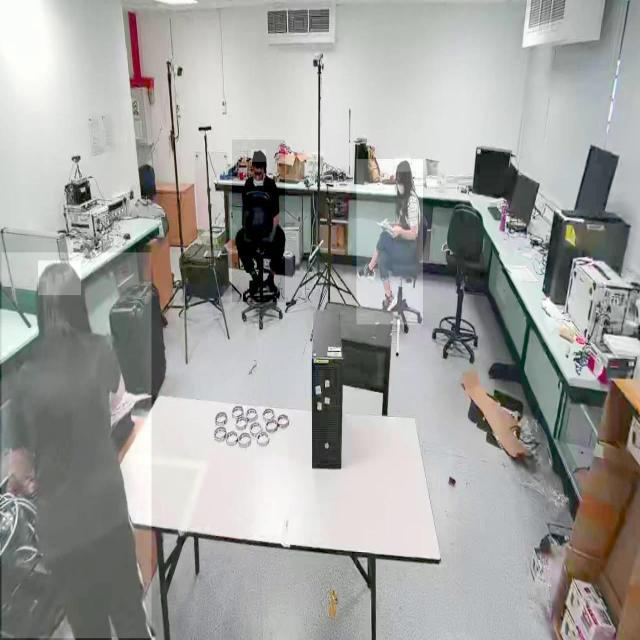face_mask: (394, 173, 406, 199)
hand_noglove: (388, 222, 402, 238)
head_nohelmet: (38, 260, 82, 296), (251, 149, 267, 163), (396, 158, 412, 172)
person: (2, 253, 152, 639), (356, 159, 424, 325), (232, 140, 286, 303)
shoes: (265, 271, 282, 299), (356, 261, 378, 282), (380, 288, 397, 314), (246, 272, 262, 298)
